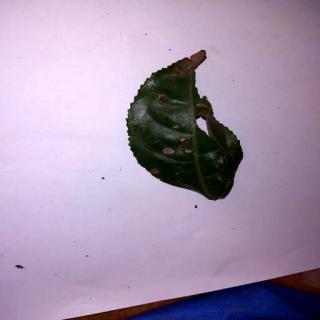Anthracnose: (127, 48, 245, 203)
